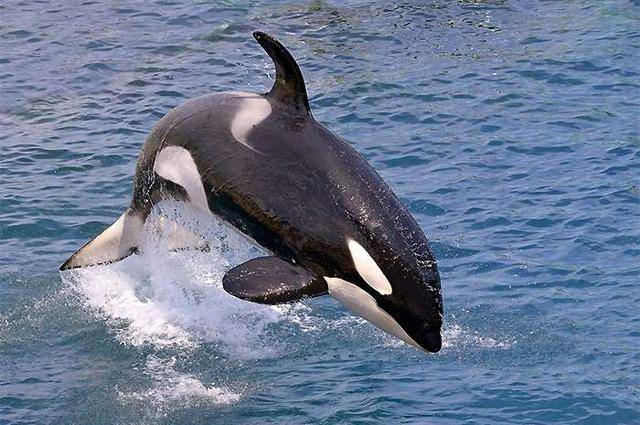fish: (42, 26, 450, 356)
